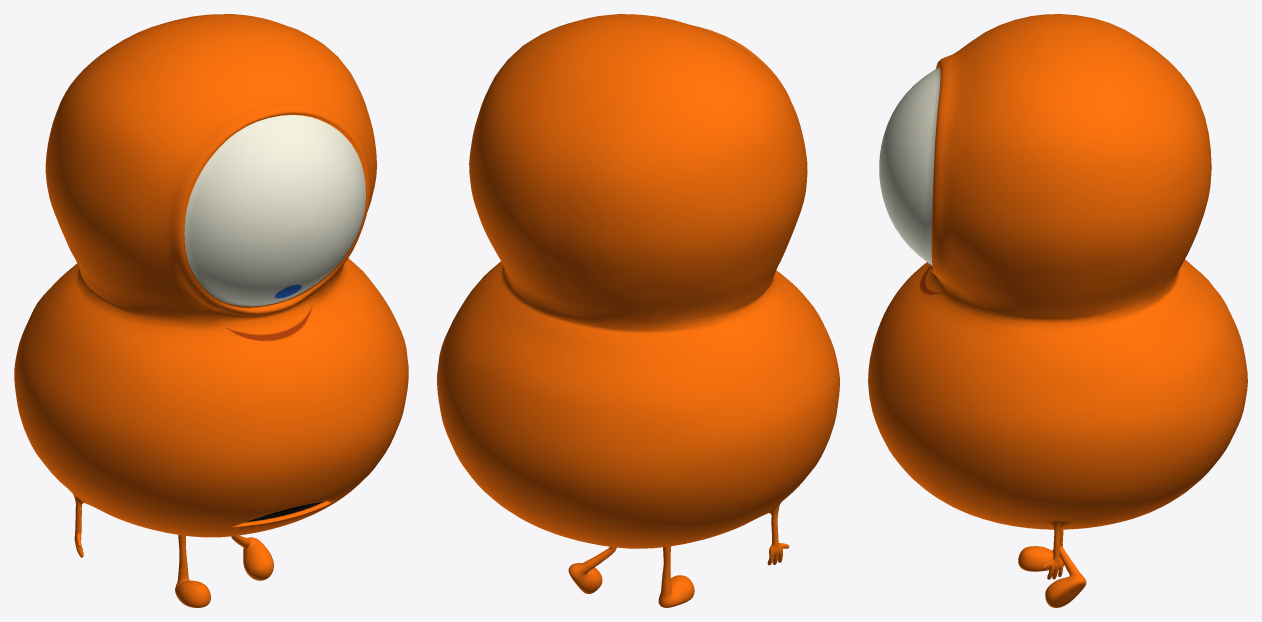
Rendered from Bicho naranja.glb.
The picture shows the model from 3 angles, left to right: view 1: azimuth 30°, elevation 25°; view 2: azimuth 150°, elevation 25°; view 3: azimuth 270°, elevation 25°; orthographic projection. The views are drawn at different scales.
Parts seen in each view (by area): view 1: character_3.1; view 2: character_3.1; view 3: character_3.1.
Boxes of the visible parts, x1,y1,x2,y2 form: character_3.1: (14,14,408,607); character_3.1: (437,14,839,607); character_3.1: (868,14,1247,607).
Size of the model in its own units: 0.0519 by 0.0808 by 0.0506.
Materials: 1 (1 with a texture image).
